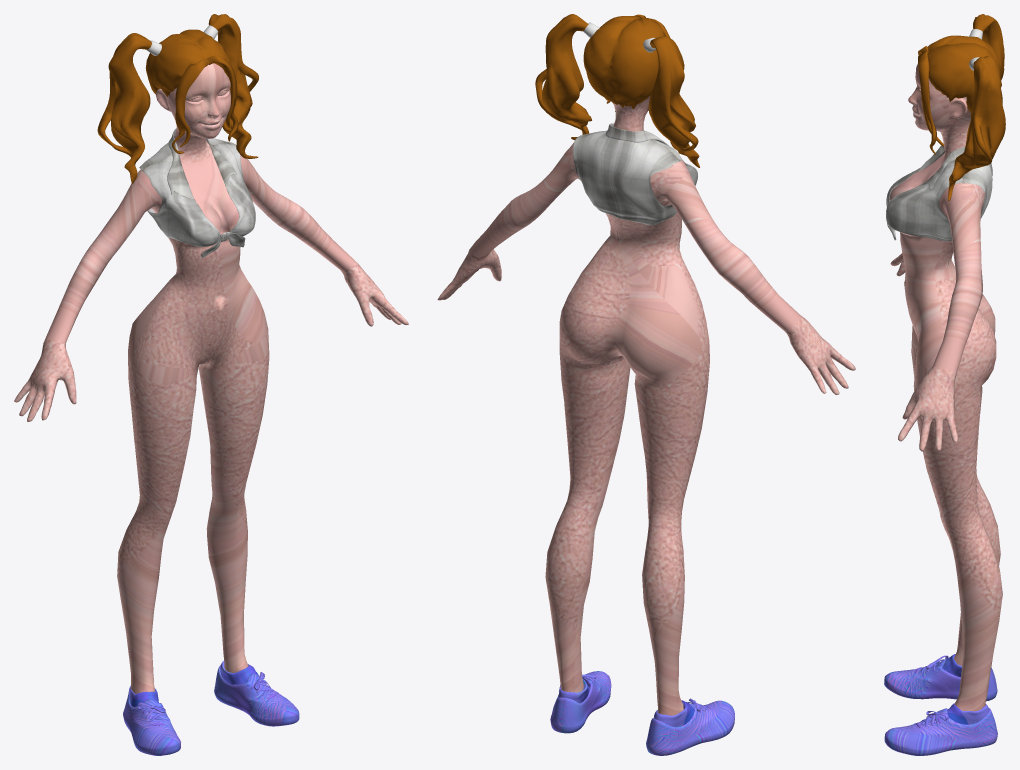
File: harley.fbx
3 views of the same model, side by side, from view 1: azimuth 30°, elevation 25°; view 2: azimuth 150°, elevation 25°; view 3: azimuth 270°, elevation 25° (orthographic). The views are drawn at different scales.
Parts seen in each view (by area): view 1: body, hair, shirt; view 2: body, hair, shirt; view 3: body, hair, shirt.
Boxes of the visible parts, x1,y1,x2,y2 form: body: [14, 63, 408, 755]; hair: [97, 14, 258, 183]; shirt: [139, 129, 255, 257]; body: [437, 96, 855, 755]; hair: [535, 14, 699, 167]; shirt: [572, 123, 697, 225]; body: [884, 64, 1002, 755]; hair: [918, 14, 1005, 200]; shirt: [886, 143, 992, 241].
Bounding box in the file's own units: 99.98 × 173 × 28.03.
